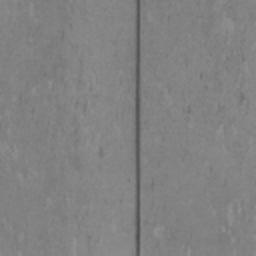Scratches: (134, 0, 142, 256)
